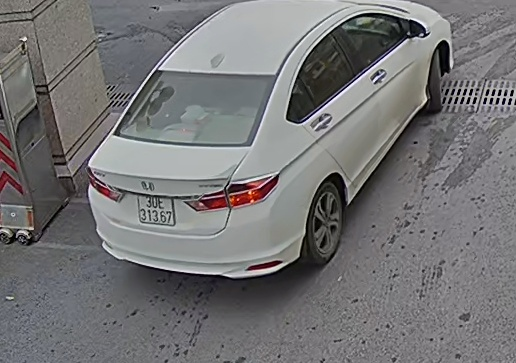vehicle plate: (132, 186, 179, 227)
